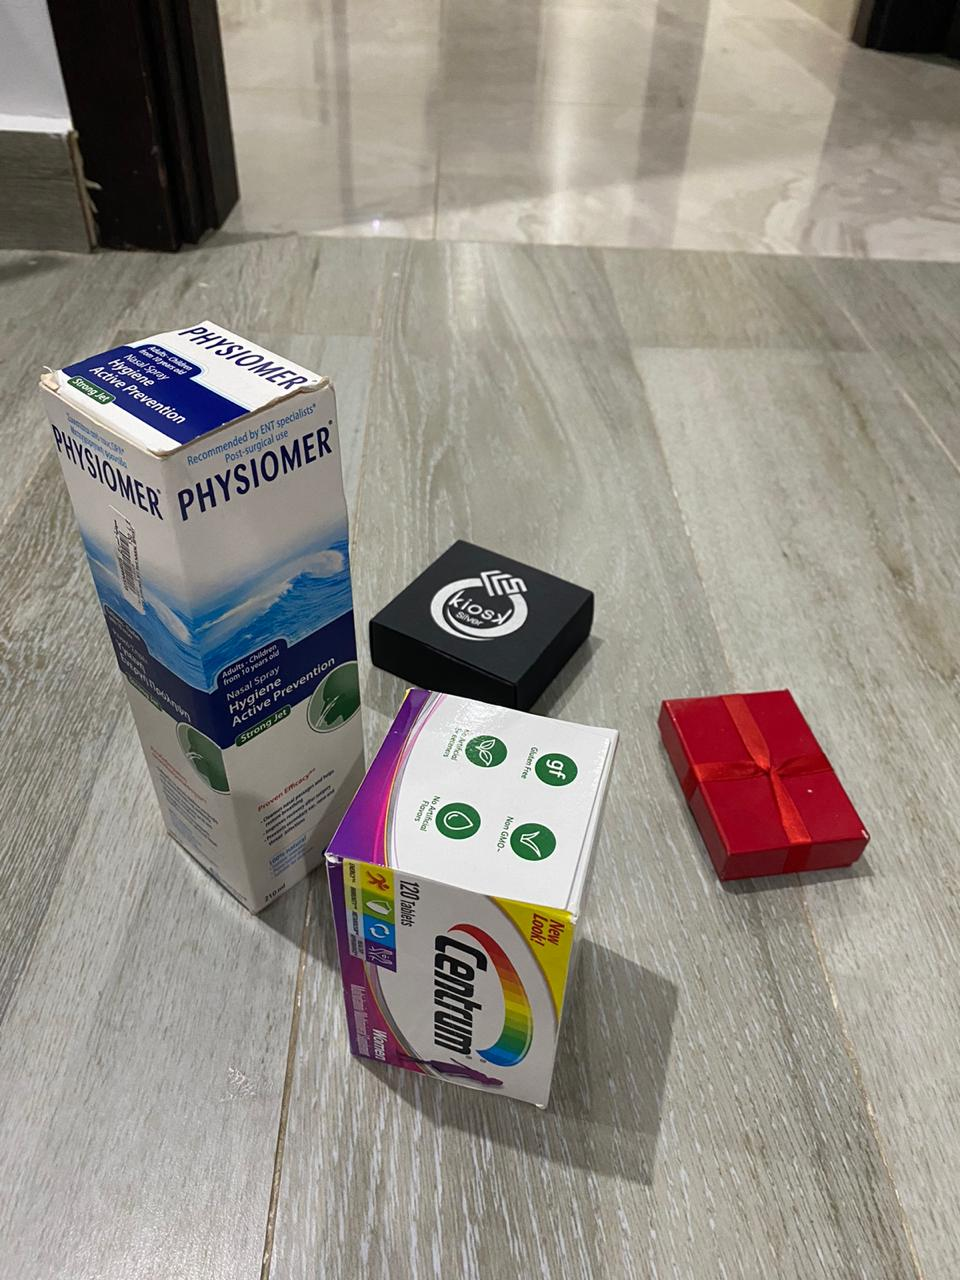Black Box: (660, 685, 879, 892)
Centrum: (324, 686, 617, 1113)
Physiomer: (39, 316, 384, 916)
Red Box: (369, 537, 608, 697)
